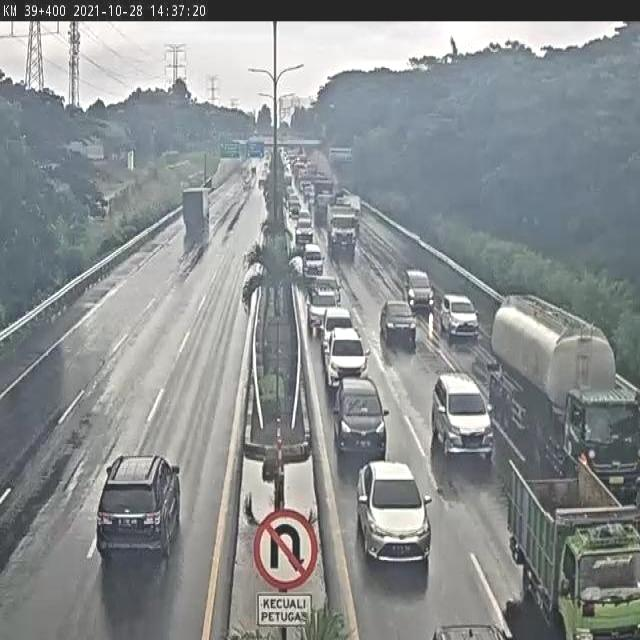Car: (86, 444, 195, 566), (355, 458, 431, 564), (432, 372, 494, 462), (332, 376, 387, 460), (323, 327, 369, 390), (438, 293, 480, 342), (379, 299, 417, 350), (308, 276, 342, 322), (402, 268, 436, 312), (431, 621, 509, 640), (302, 244, 324, 277), (295, 218, 314, 248), (300, 181, 316, 204), (288, 196, 301, 218)
Truck: (477, 288, 640, 487), (499, 460, 640, 639), (177, 180, 215, 247), (326, 204, 362, 251)
